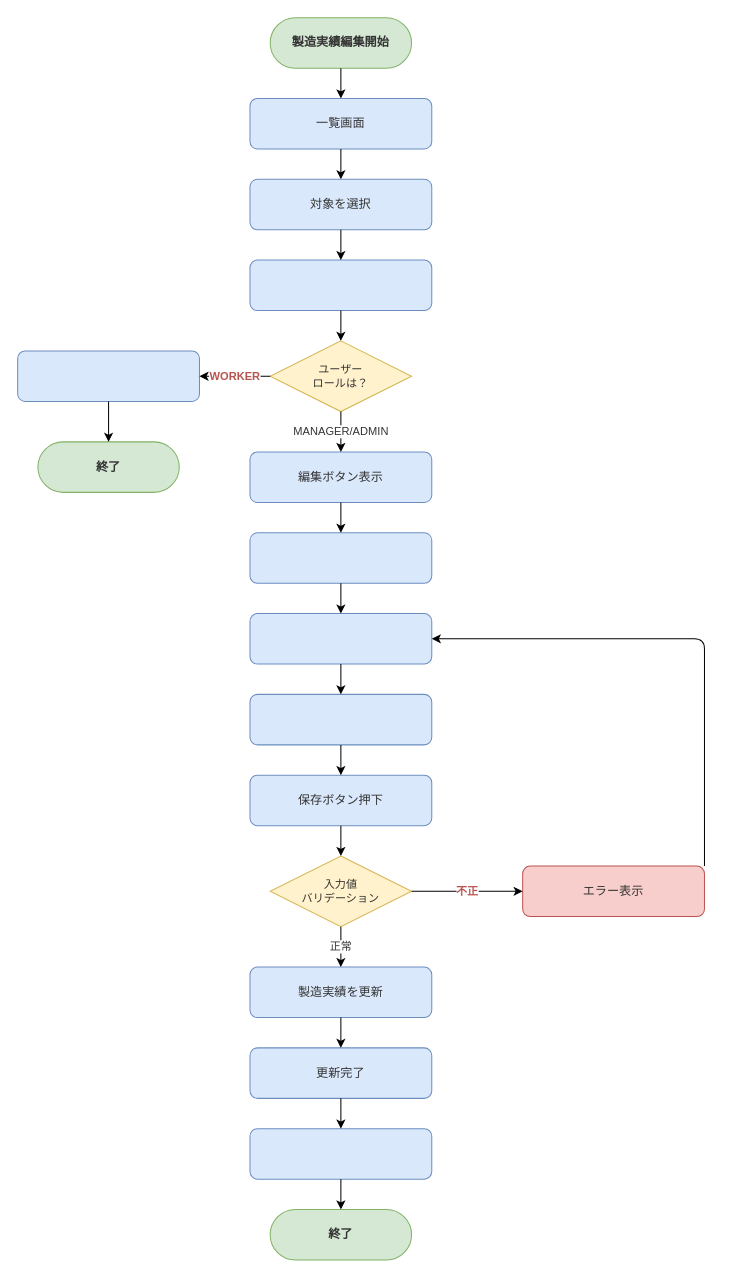
Image size: 730x1278. Some labels were removed from this diagram. The shapes that lost their labels are listed below. From the top down, each one's centre as x and y in pixels, then its label:
At [340,285]: "詳細画面表示".
At [108,375]: "閲覧のみ （編集ボタン非表示）".
At [340,557]: "編集ボタン押下".
At [340,638]: "編集フォーム表示 （数量・備考が変更可能）".
At [340,719]: "修正".
At [340,1153]: "詳細画面に更新内容反映".
